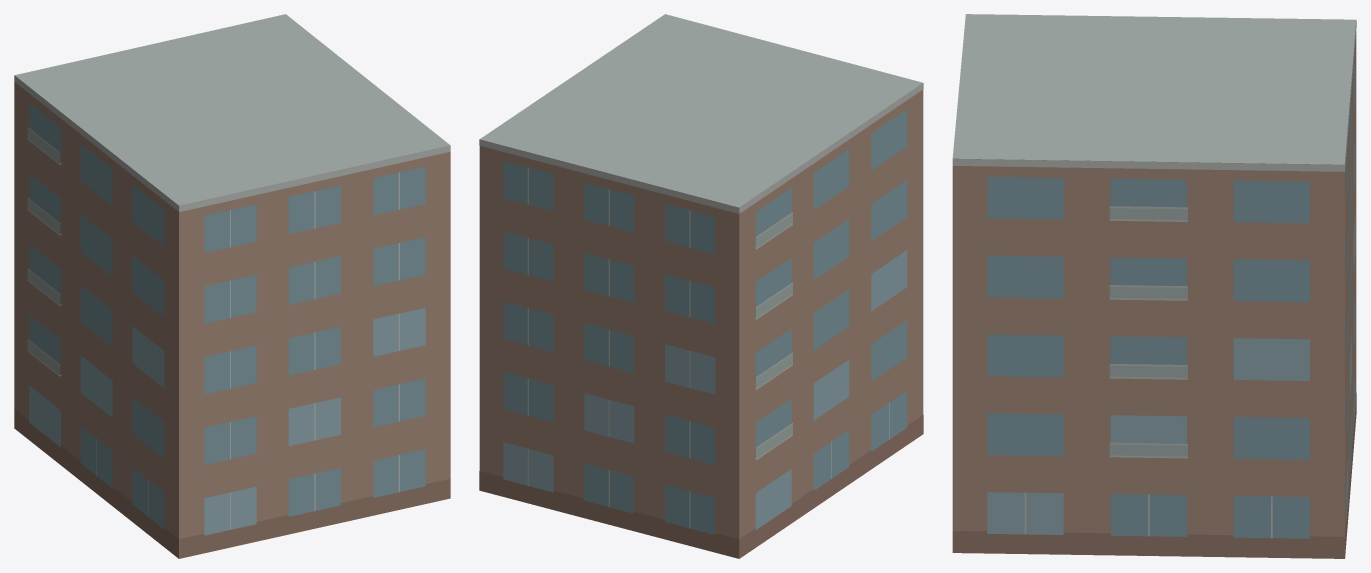
Rendered from survey-upis-32957595.glb.
The picture shows the model from 3 angles, left to right: view 1: azimuth 30°, elevation 25°; view 2: azimuth 150°, elevation 25°; view 3: azimuth 270°, elevation 25°; orthographic projection. The views are drawn at different scales.
Parts seen in each view (by area): view 1: survey-upis-32957595.tmp; view 2: survey-upis-32957595.tmp; view 3: survey-upis-32957595.tmp.
Boxes of the visible parts, <box> form: survey-upis-32957595.tmp: <box>14,14,450,558</box>; survey-upis-32957595.tmp: <box>479,14,923,558</box>; survey-upis-32957595.tmp: <box>952,14,1356,558</box>.
Bounding box in the file's own units: 10.99 × 13.4 × 12.45.
